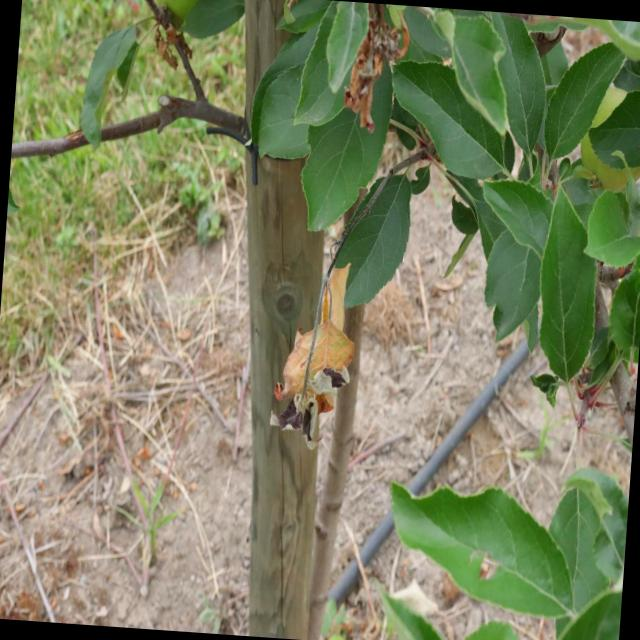-FireBlight-: (262, 260, 358, 447)
